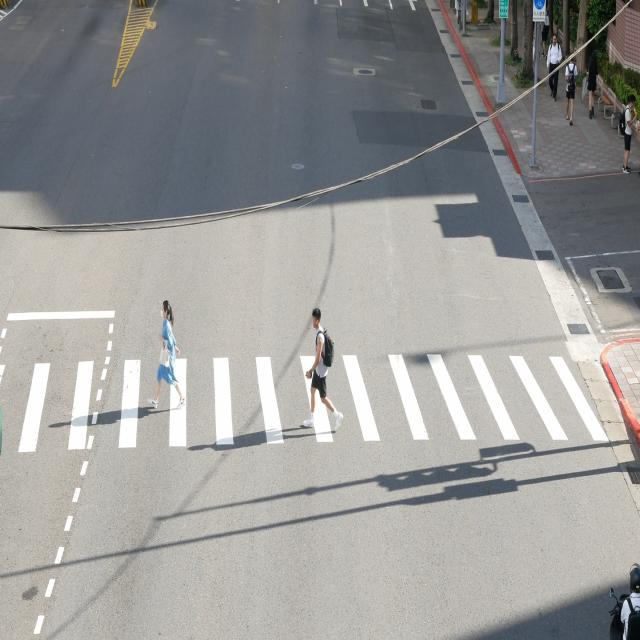pedestrian: (305, 308, 343, 428), (149, 300, 185, 408)
